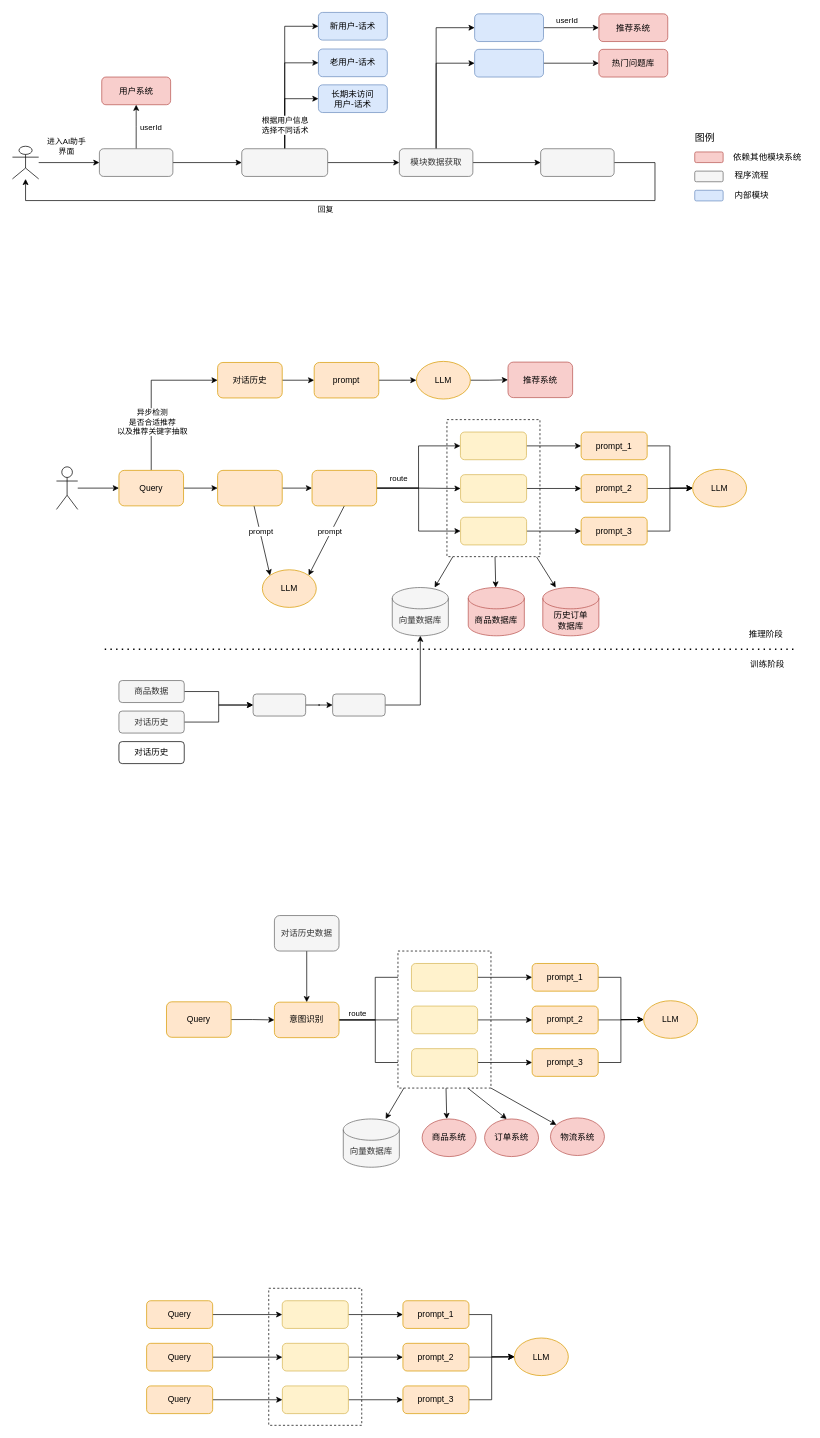
The diagram is 820 pixels wide and 1438 high, and some of its shapes have lost their labels. Here are the shapes that lost their labels. From the top down, the box of each, then its label:
(474, 13, 544, 42): 猜你喜欢 （商品推荐）
(474, 49, 544, 77): 大家都在问 （提问引导）
(99, 148, 173, 176): 用户信息获取
(241, 148, 328, 176): 用户分类
(540, 148, 614, 176): 信息整合
(460, 431, 526, 460): 商品介绍
(217, 470, 282, 506): 请求重写
(311, 470, 377, 506): 请求路由 (意图识别)
(460, 474, 527, 502): 产品对比
(460, 517, 527, 545): 闲聊/其他
(252, 693, 306, 716): 语义分块
(332, 693, 385, 716): 向量化
(411, 963, 477, 991): 商品退订
(411, 1005, 478, 1034): 物流查询
(411, 1048, 478, 1076): 投诉建议
(282, 1300, 348, 1328): 生活陪伴
(282, 1343, 348, 1371): 工作搭档
(282, 1385, 348, 1414): 辅助创作
